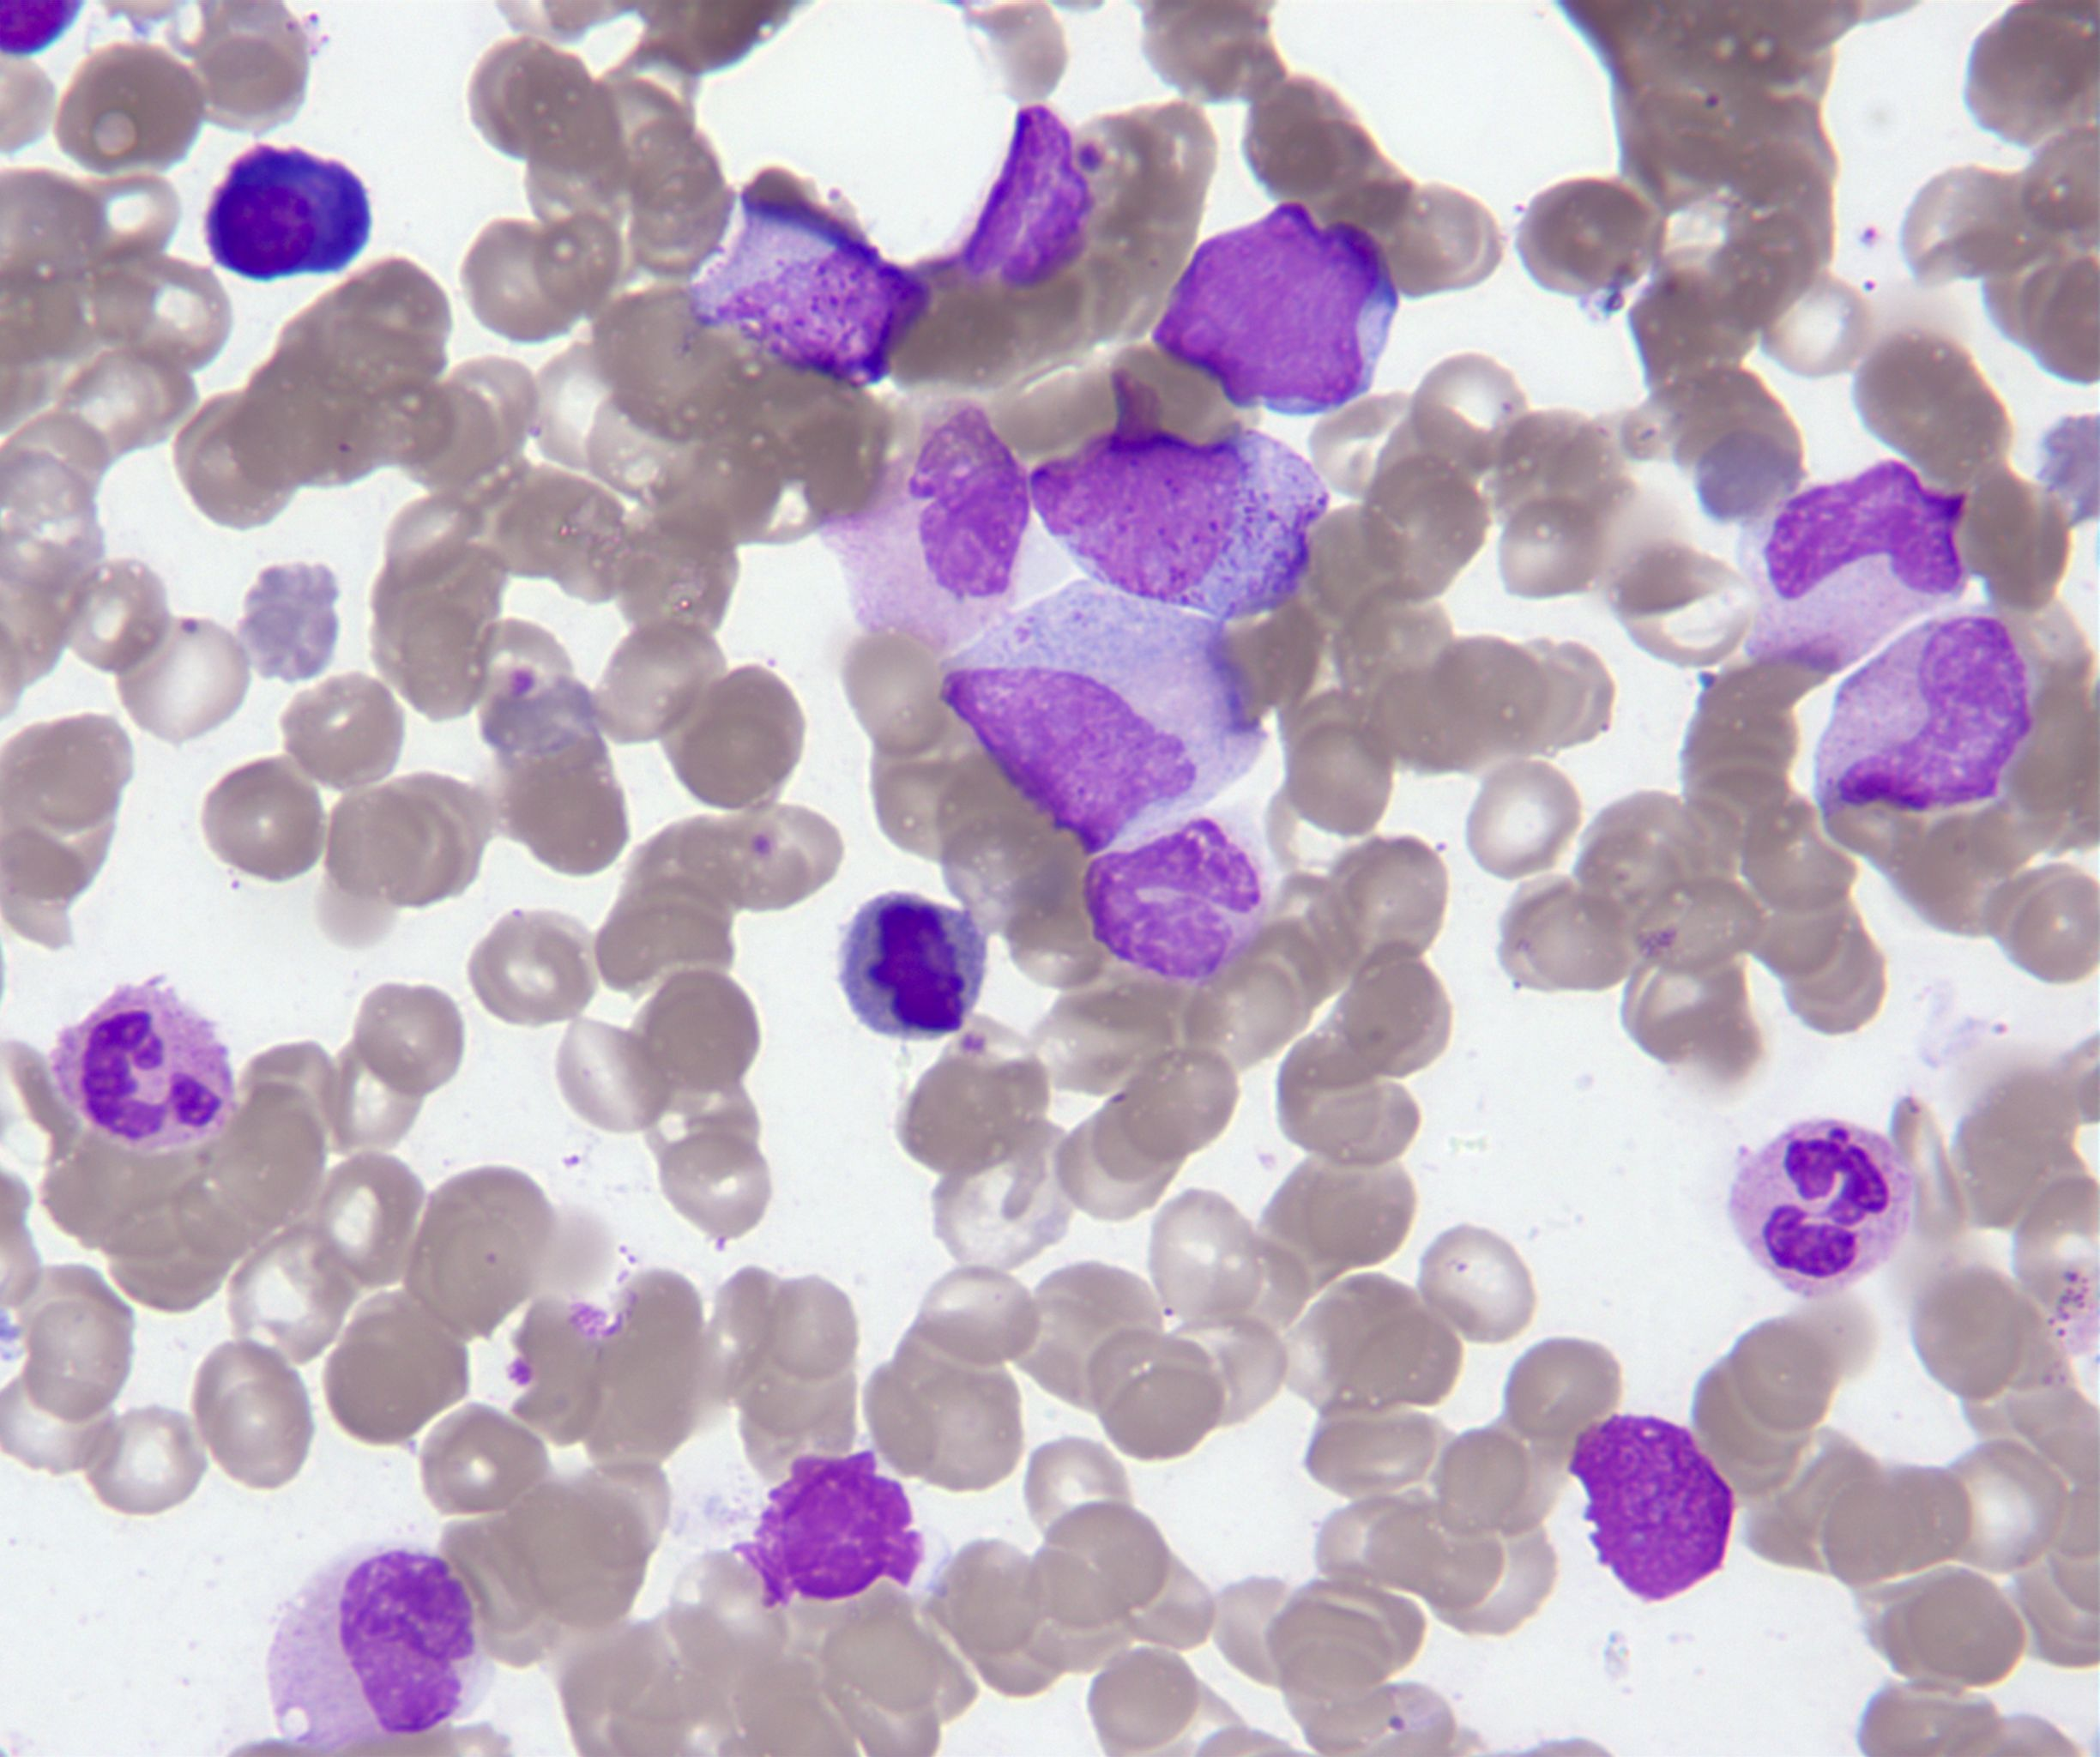1: (1149, 192, 1404, 419)
3: (937, 572, 1272, 855), (1031, 365, 1334, 626), (682, 190, 942, 400)
4: (811, 394, 1033, 660), (1732, 450, 1983, 682), (1802, 607, 2039, 822)
5: (1076, 806, 1275, 991)
52: (199, 134, 378, 295)
6: (44, 967, 246, 1160), (1723, 1115, 1920, 1300)
x: (251, 1537, 488, 1757), (1559, 1401, 1756, 1610), (729, 1438, 931, 1617), (827, 881, 996, 1049)
